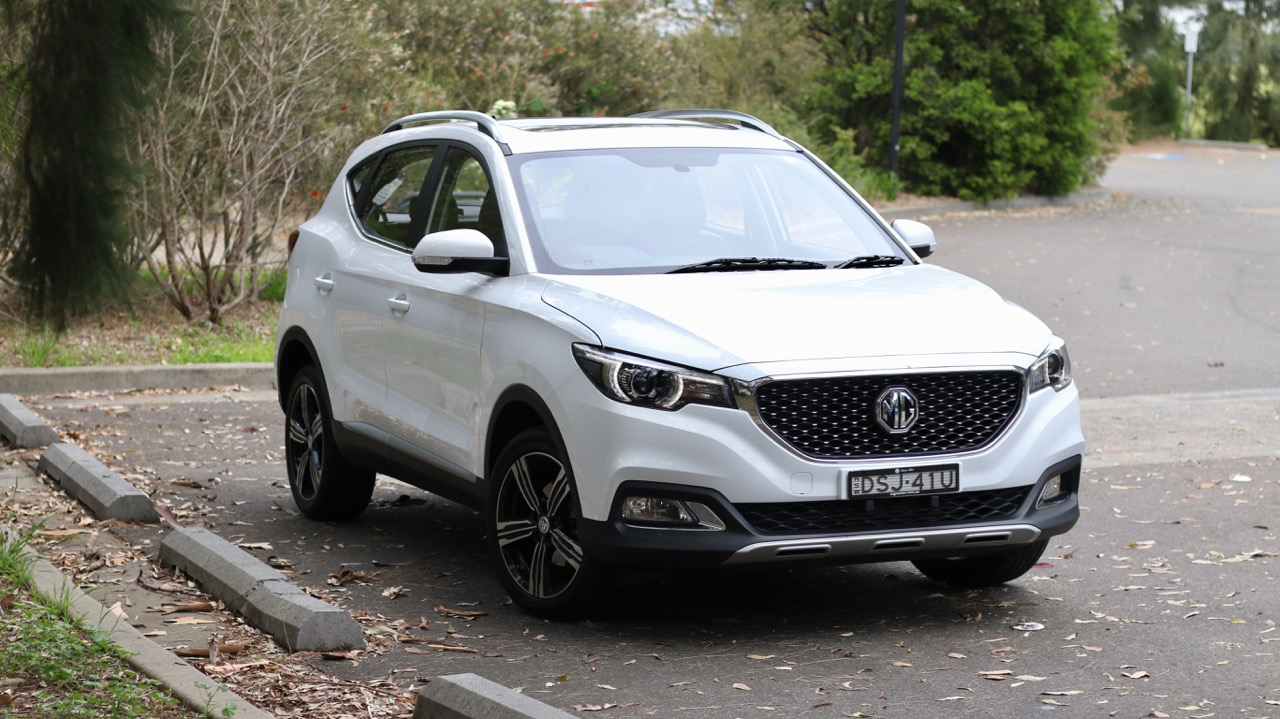pickup: (275, 106, 1089, 622)
